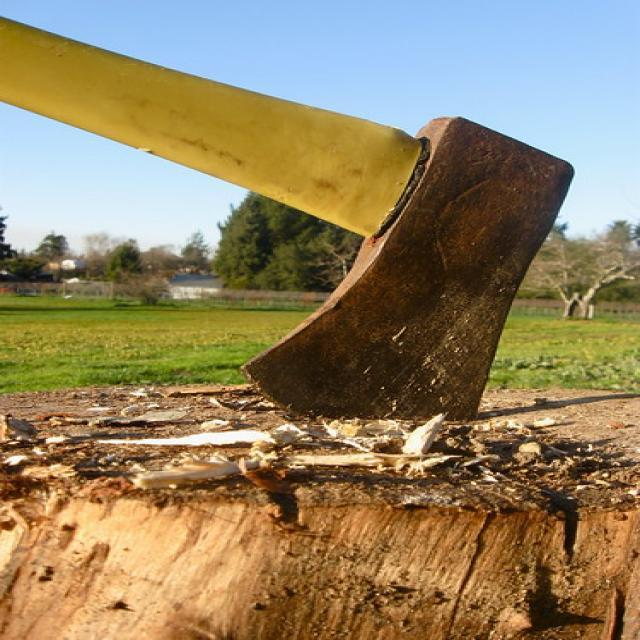Axe: (0, 18, 572, 419)
